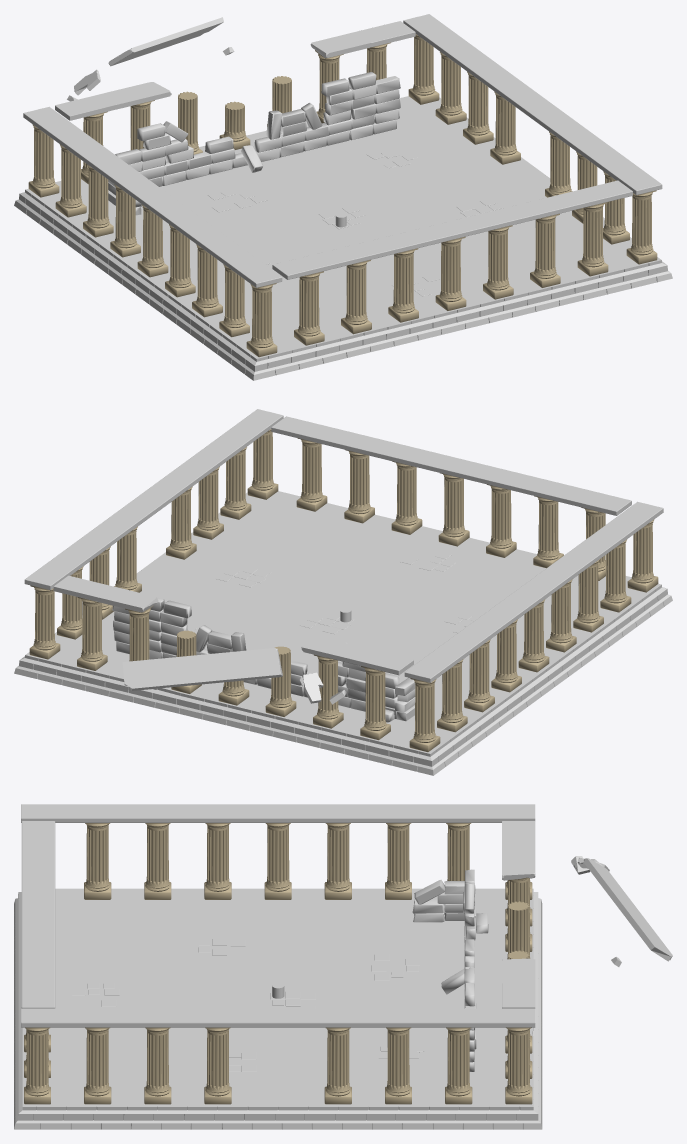
The model's file is Puzzle island 1.fbx.
3 renders of one model, top to bottom at view 1: azimuth 30°, elevation 25°; view 2: azimuth 150°, elevation 25°; view 3: azimuth 270°, elevation 25°, orthographic. The views are drawn at different scales.
Parts seen in each view (by area): view 1: Plane, Wall 1, Roof 2, Roof 1, Roof 4, Roof 5, Roof 3, Pillar.024, Pillar.020, Pillar.001, Pillar.018, Pillar.019 (+27 smaller); view 2: Plane, Roof 2, Roof 1, Roof 4, Wall 1, Broken Roof 1, Roof 5, Roof 3, Pillar.031, Pillar.015, Pillar.021, Pillar.005 (+29 smaller); view 3: Plane, Roof 1, Roof 2, Roof 4, Wall 1, Roof 5, Wall 1.001, Pillar.002, Pillar.004, Pillar.008, Pillar.003, Pillar.009 (+17 smaller).
Boxes of the visible parts, left/top/right/bottom form: Plane: left=14, top=96, right=672, bottom=380; Wall 1: left=115, top=72, right=400, bottom=186; Roof 2: left=23, top=106, right=282, bottom=287; Roof 1: left=403, top=14, right=662, bottom=195; Roof 4: left=272, top=180, right=632, bottom=279; Roof 5: left=55, top=82, right=171, bottom=120; Roof 3: left=310, top=21, right=415, bottom=58; Pillar.024: left=530, top=213, right=560, bottom=287; Pillar.020: left=341, top=260, right=371, bottom=334; Pillar.001: left=294, top=271, right=324, bottom=345; Pillar.018: left=246, top=283, right=277, bottom=357; Pillar.019: left=577, top=202, right=608, bottom=276; Plane: left=14, top=491, right=672, bottom=775; Roof 2: left=404, top=501, right=663, bottom=682; Roof 1: left=24, top=409, right=283, bottom=590; Roof 4: left=271, top=416, right=631, bottom=515; Wall 1: left=112, top=597, right=399, bottom=722; Broken Roof 1: left=122, top=648, right=282, bottom=690; Roof 5: left=301, top=635, right=413, bottom=675; Roof 3: left=53, top=575, right=158, bottom=612; Pillar.031: left=360, top=666, right=390, bottom=740; Pillar.015: left=409, top=678, right=440, bottom=752; Pillar.021: left=486, top=484, right=516, bottom=557; Pillar.005: left=29, top=585, right=60, bottom=659; Plane: left=14, top=888, right=542, bottom=1129; Roof 1: left=21, top=1008, right=535, bottom=1027; Roof 2: left=21, top=804, right=535, bottom=822; Roof 4: left=21, top=821, right=55, bottom=1008; Wall 1: left=441, top=869, right=488, bottom=1071; Roof 5: left=502, top=821, right=535, bottom=880; Wall 1.001: left=412, top=879, right=475, bottom=922; Pillar.002: left=324, top=1027, right=351, bottom=1104; Pillar.004: left=445, top=1027, right=472, bottom=1104; Pillar.008: left=84, top=1027, right=111, bottom=1104; Pillar.003: left=385, top=1027, right=411, bottom=1104; Pillar.009: left=24, top=1027, right=50, bottom=1104.
Size of the model in its own units: 8845 by 2197 by 10906.
